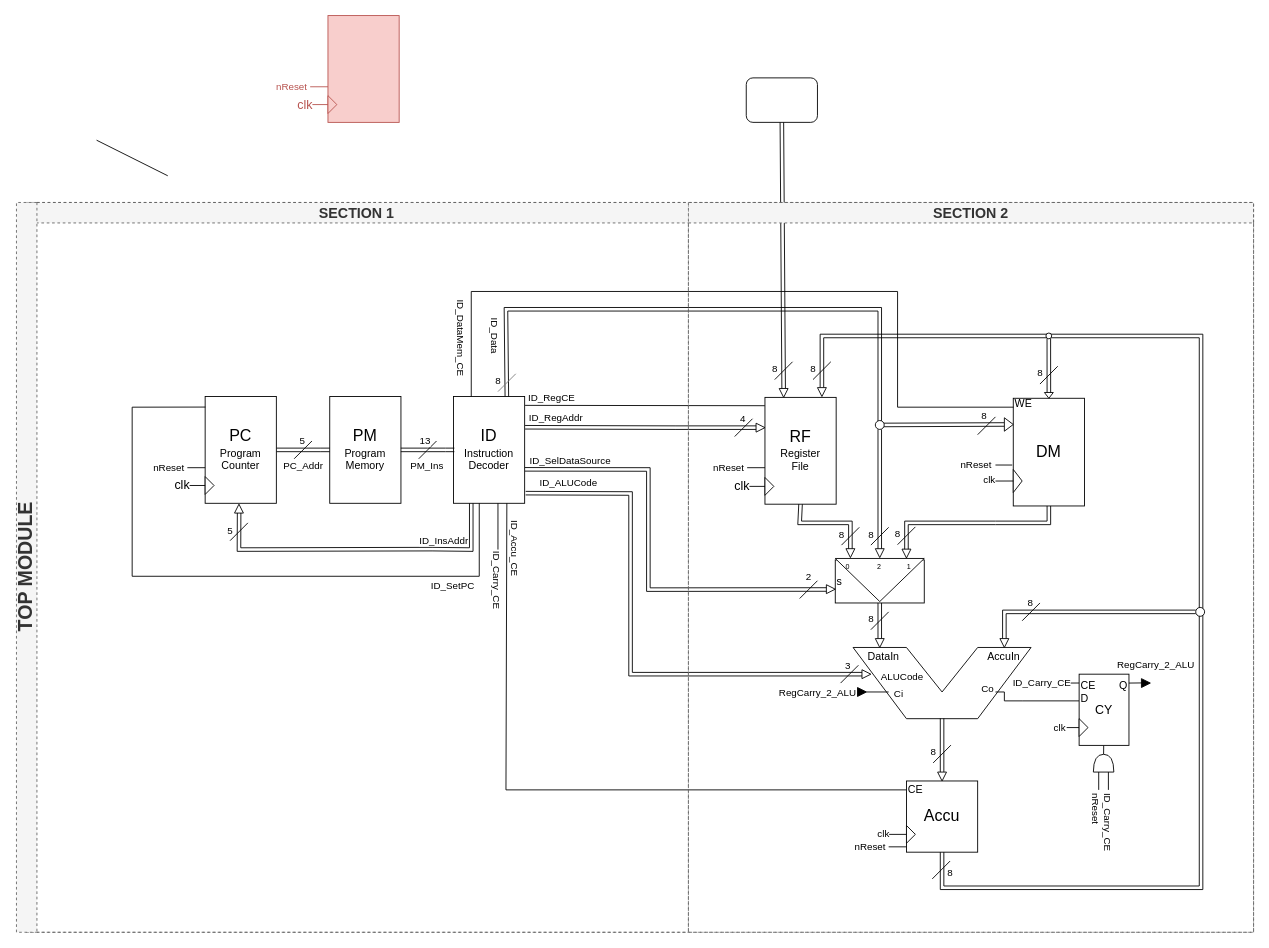
This 1269x948 diagram has some shape labels left out. Here are the shapes that lost their labels. From the top down, the centre of each, then its label:
At point (363, 68): "DebMod Debug Module".
At point (781, 99): "INPUT".
